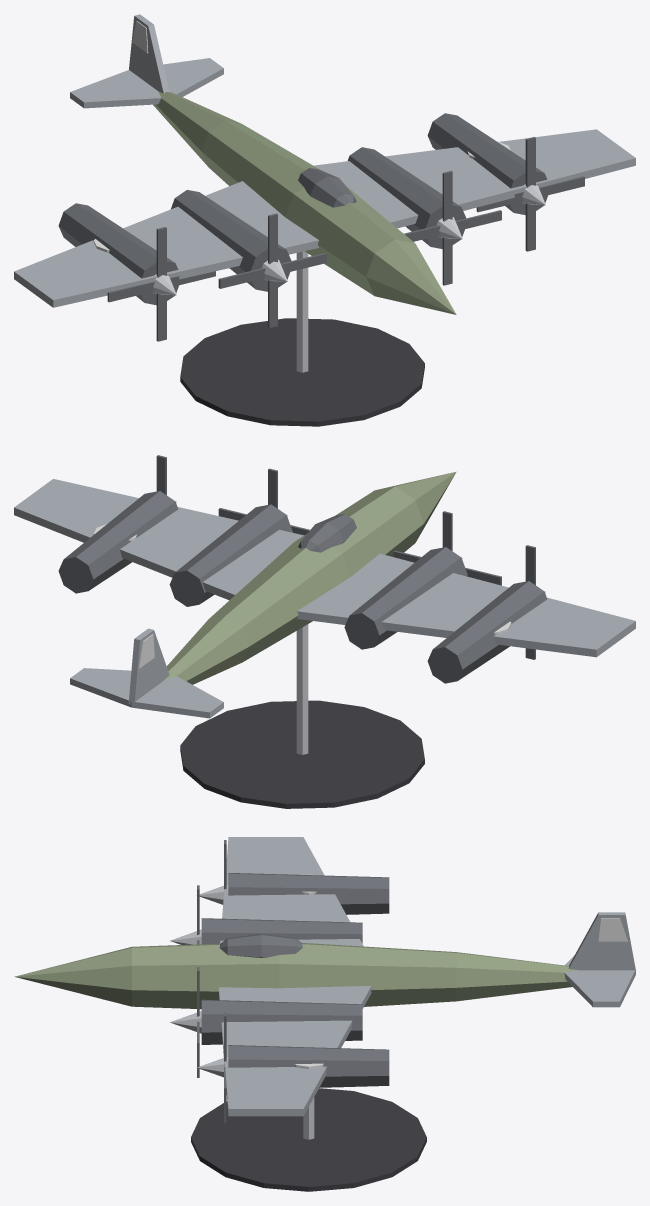
3 views of the same model, one above another, from view 1: azimuth 30°, elevation 25°; view 2: azimuth 150°, elevation 25°; view 3: azimuth 270°, elevation 25° (orthographic). The views are drawn at different scales.
Visible parts, largest first — view 1: Body; view 2: Body; view 3: Body.
Part boxes in pixels (bbox=[...]): Body: bbox=[14, 14, 635, 426]; Body: bbox=[14, 455, 635, 808]; Body: bbox=[14, 837, 635, 1191].
Size of the model in its own units: 1.2 by 0.47 by 1.16.
